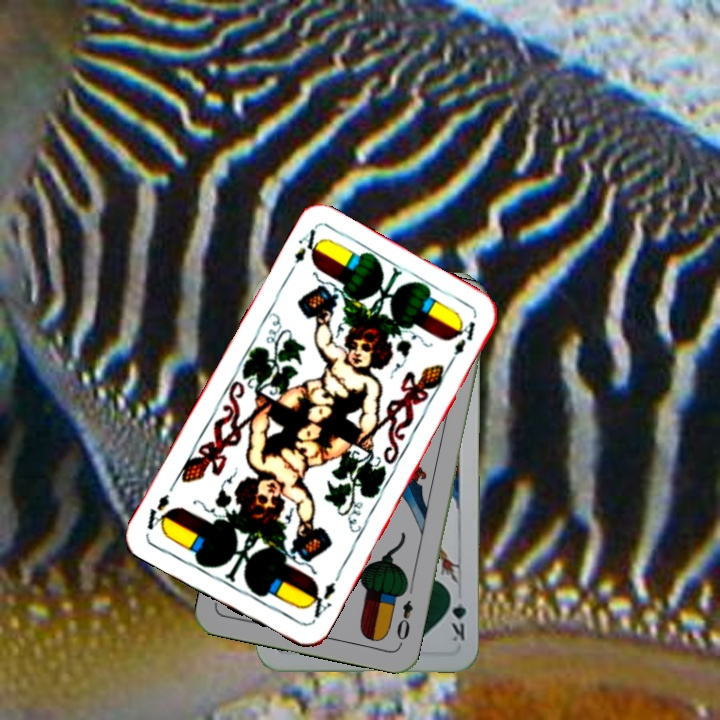EA: (283, 224, 326, 279), (301, 570, 343, 625)
EO: (392, 596, 416, 648)
GK: (446, 587, 469, 646)
